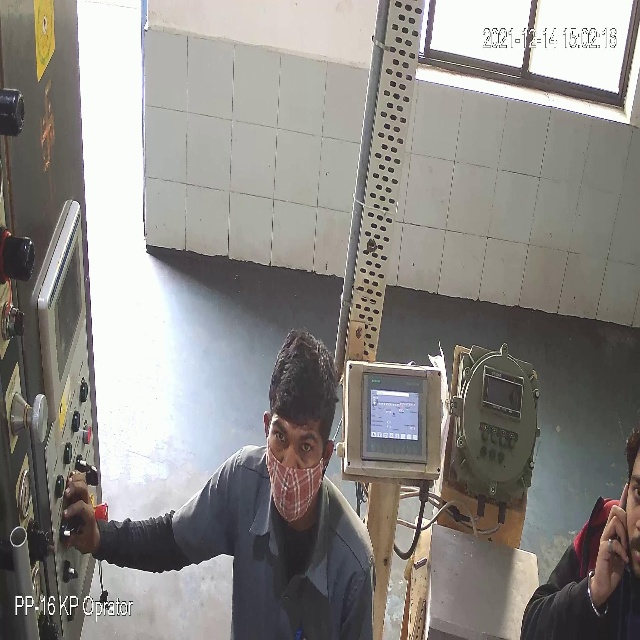Sin_gafas: (271, 419, 323, 468)
